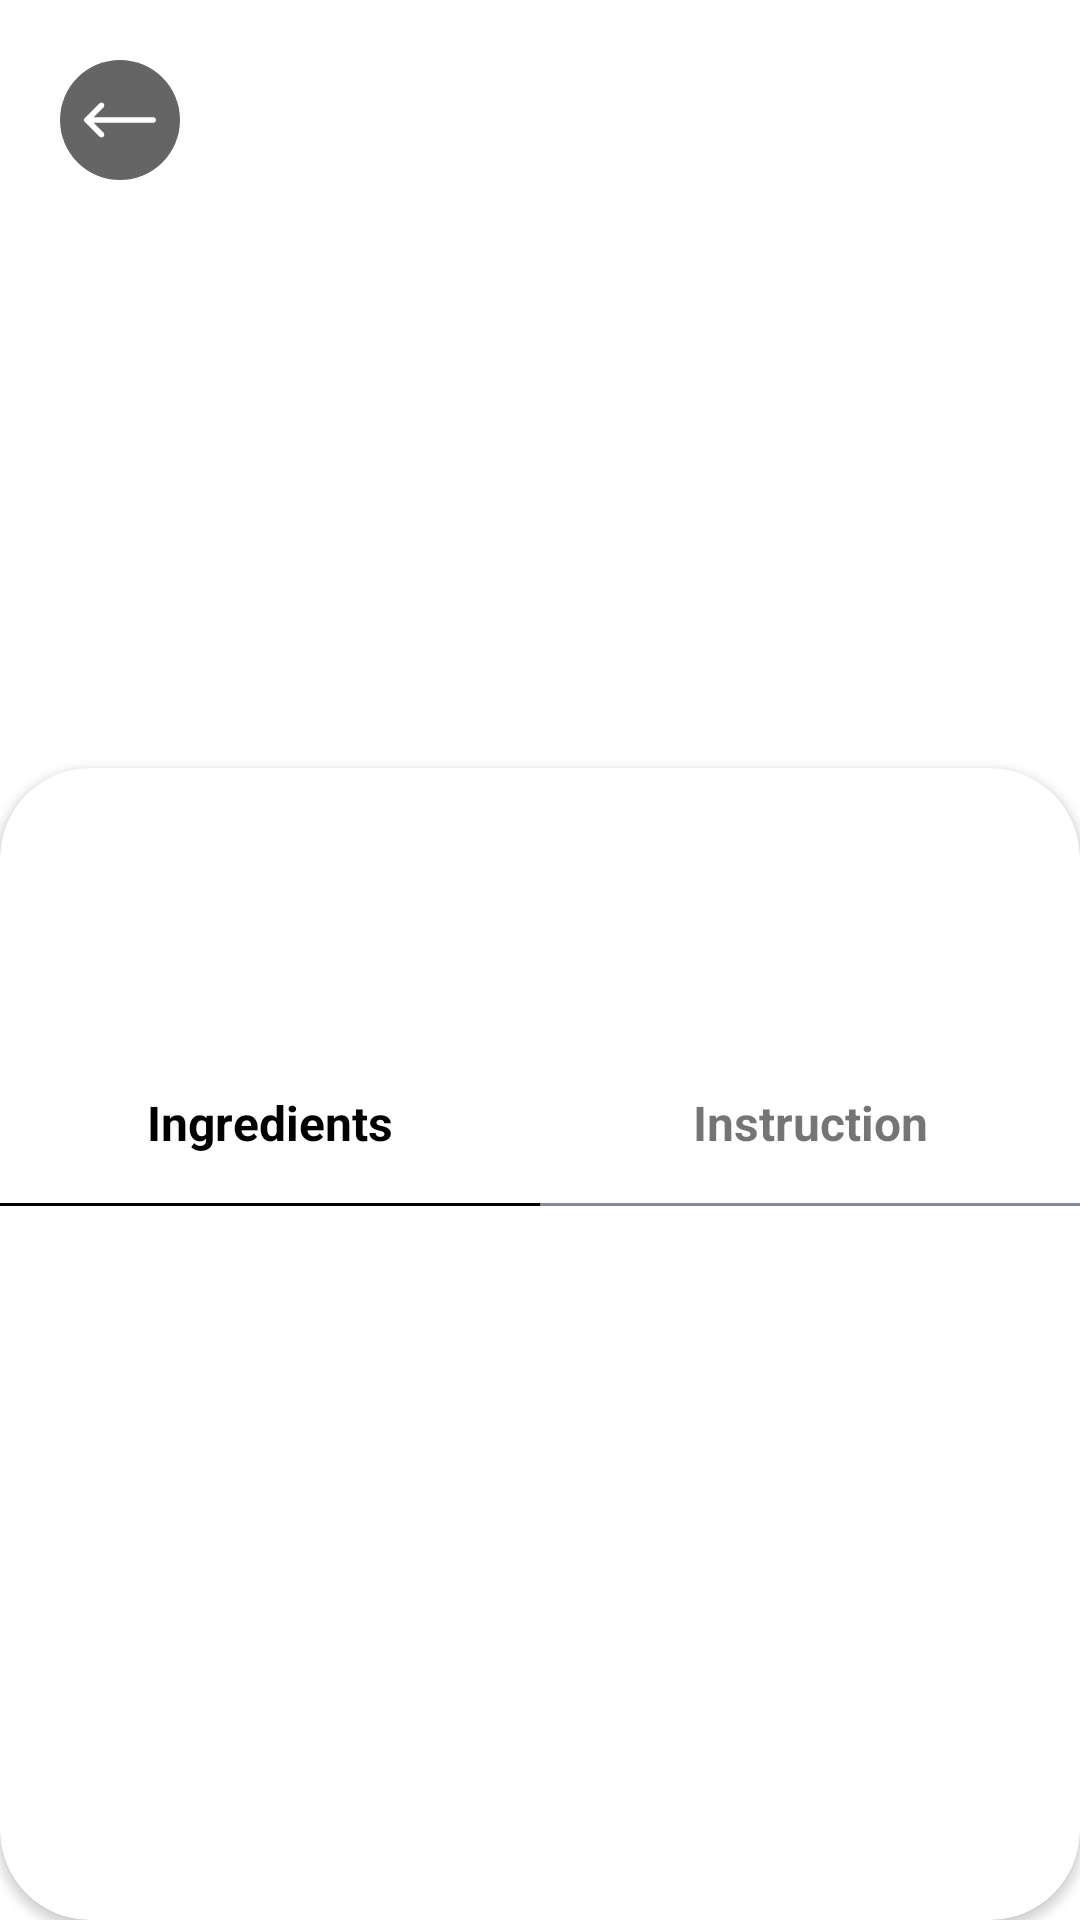

Icon click points for this 1080px×1920px phone screenshot, format point (x, y):
left arrow: point (120, 120)
